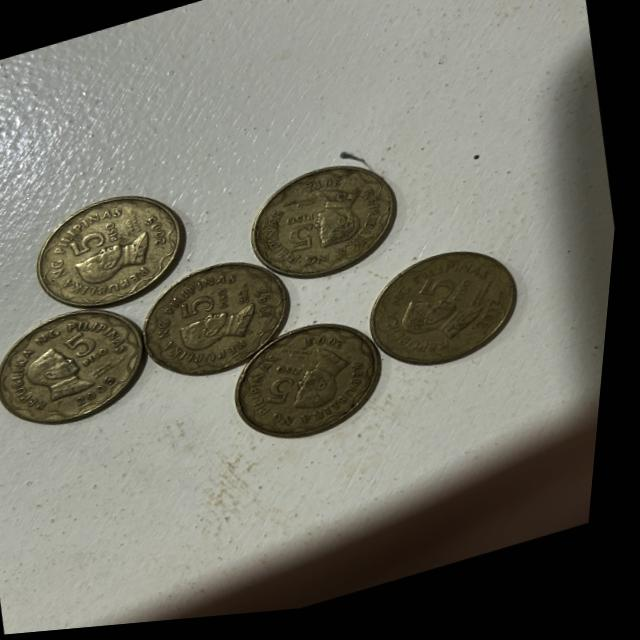5_Old_Front: (162, 275, 251, 333), (65, 312, 128, 376), (416, 275, 484, 327), (279, 207, 327, 268), (66, 219, 129, 264), (272, 369, 322, 419)
